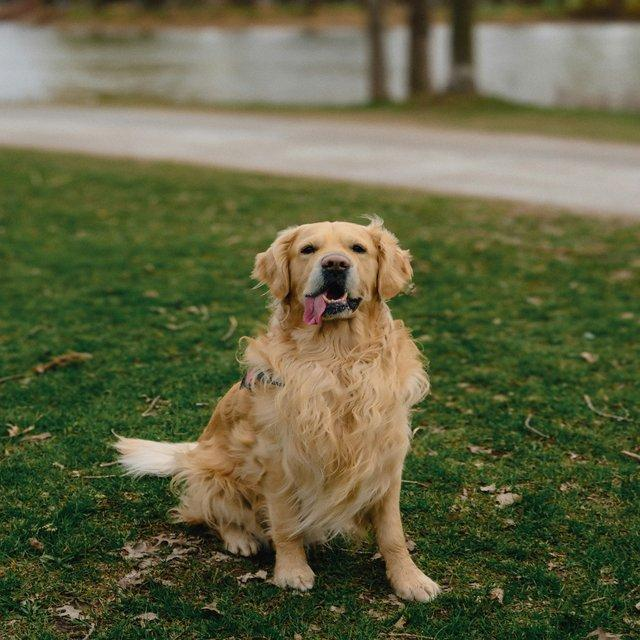retriever: (108, 212, 444, 603)
